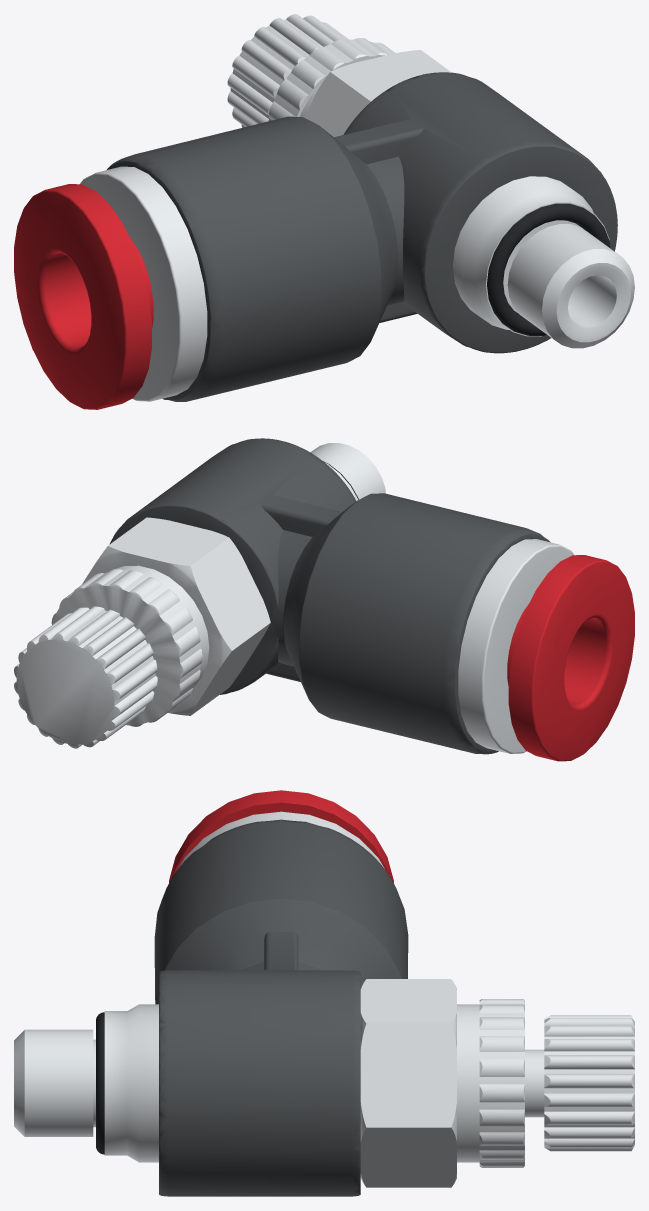
File: air-flow-valve-fitting.glb
The picture shows the model from 3 angles, top to bottom: view 1: azimuth 30°, elevation 25°; view 2: azimuth 150°, elevation 25°; view 3: azimuth 270°, elevation 25°; orthographic projection. The views are drawn at different scales.
Parts seen in each view (by area): view 1: 276-8639-001 Simplified Model; view 2: 276-8639-001 Simplified Model; view 3: 276-8639-001 Simplified Model.
Boxes of the visible parts, x1,y1,x2,y2 form: 276-8639-001 Simplified Model: (14,14,634,409); 276-8639-001 Simplified Model: (14,438,634,761); 276-8639-001 Simplified Model: (14,790,634,1196).
Size of the model in its own units: 0.0252 by 0.0112 by 0.0274.
